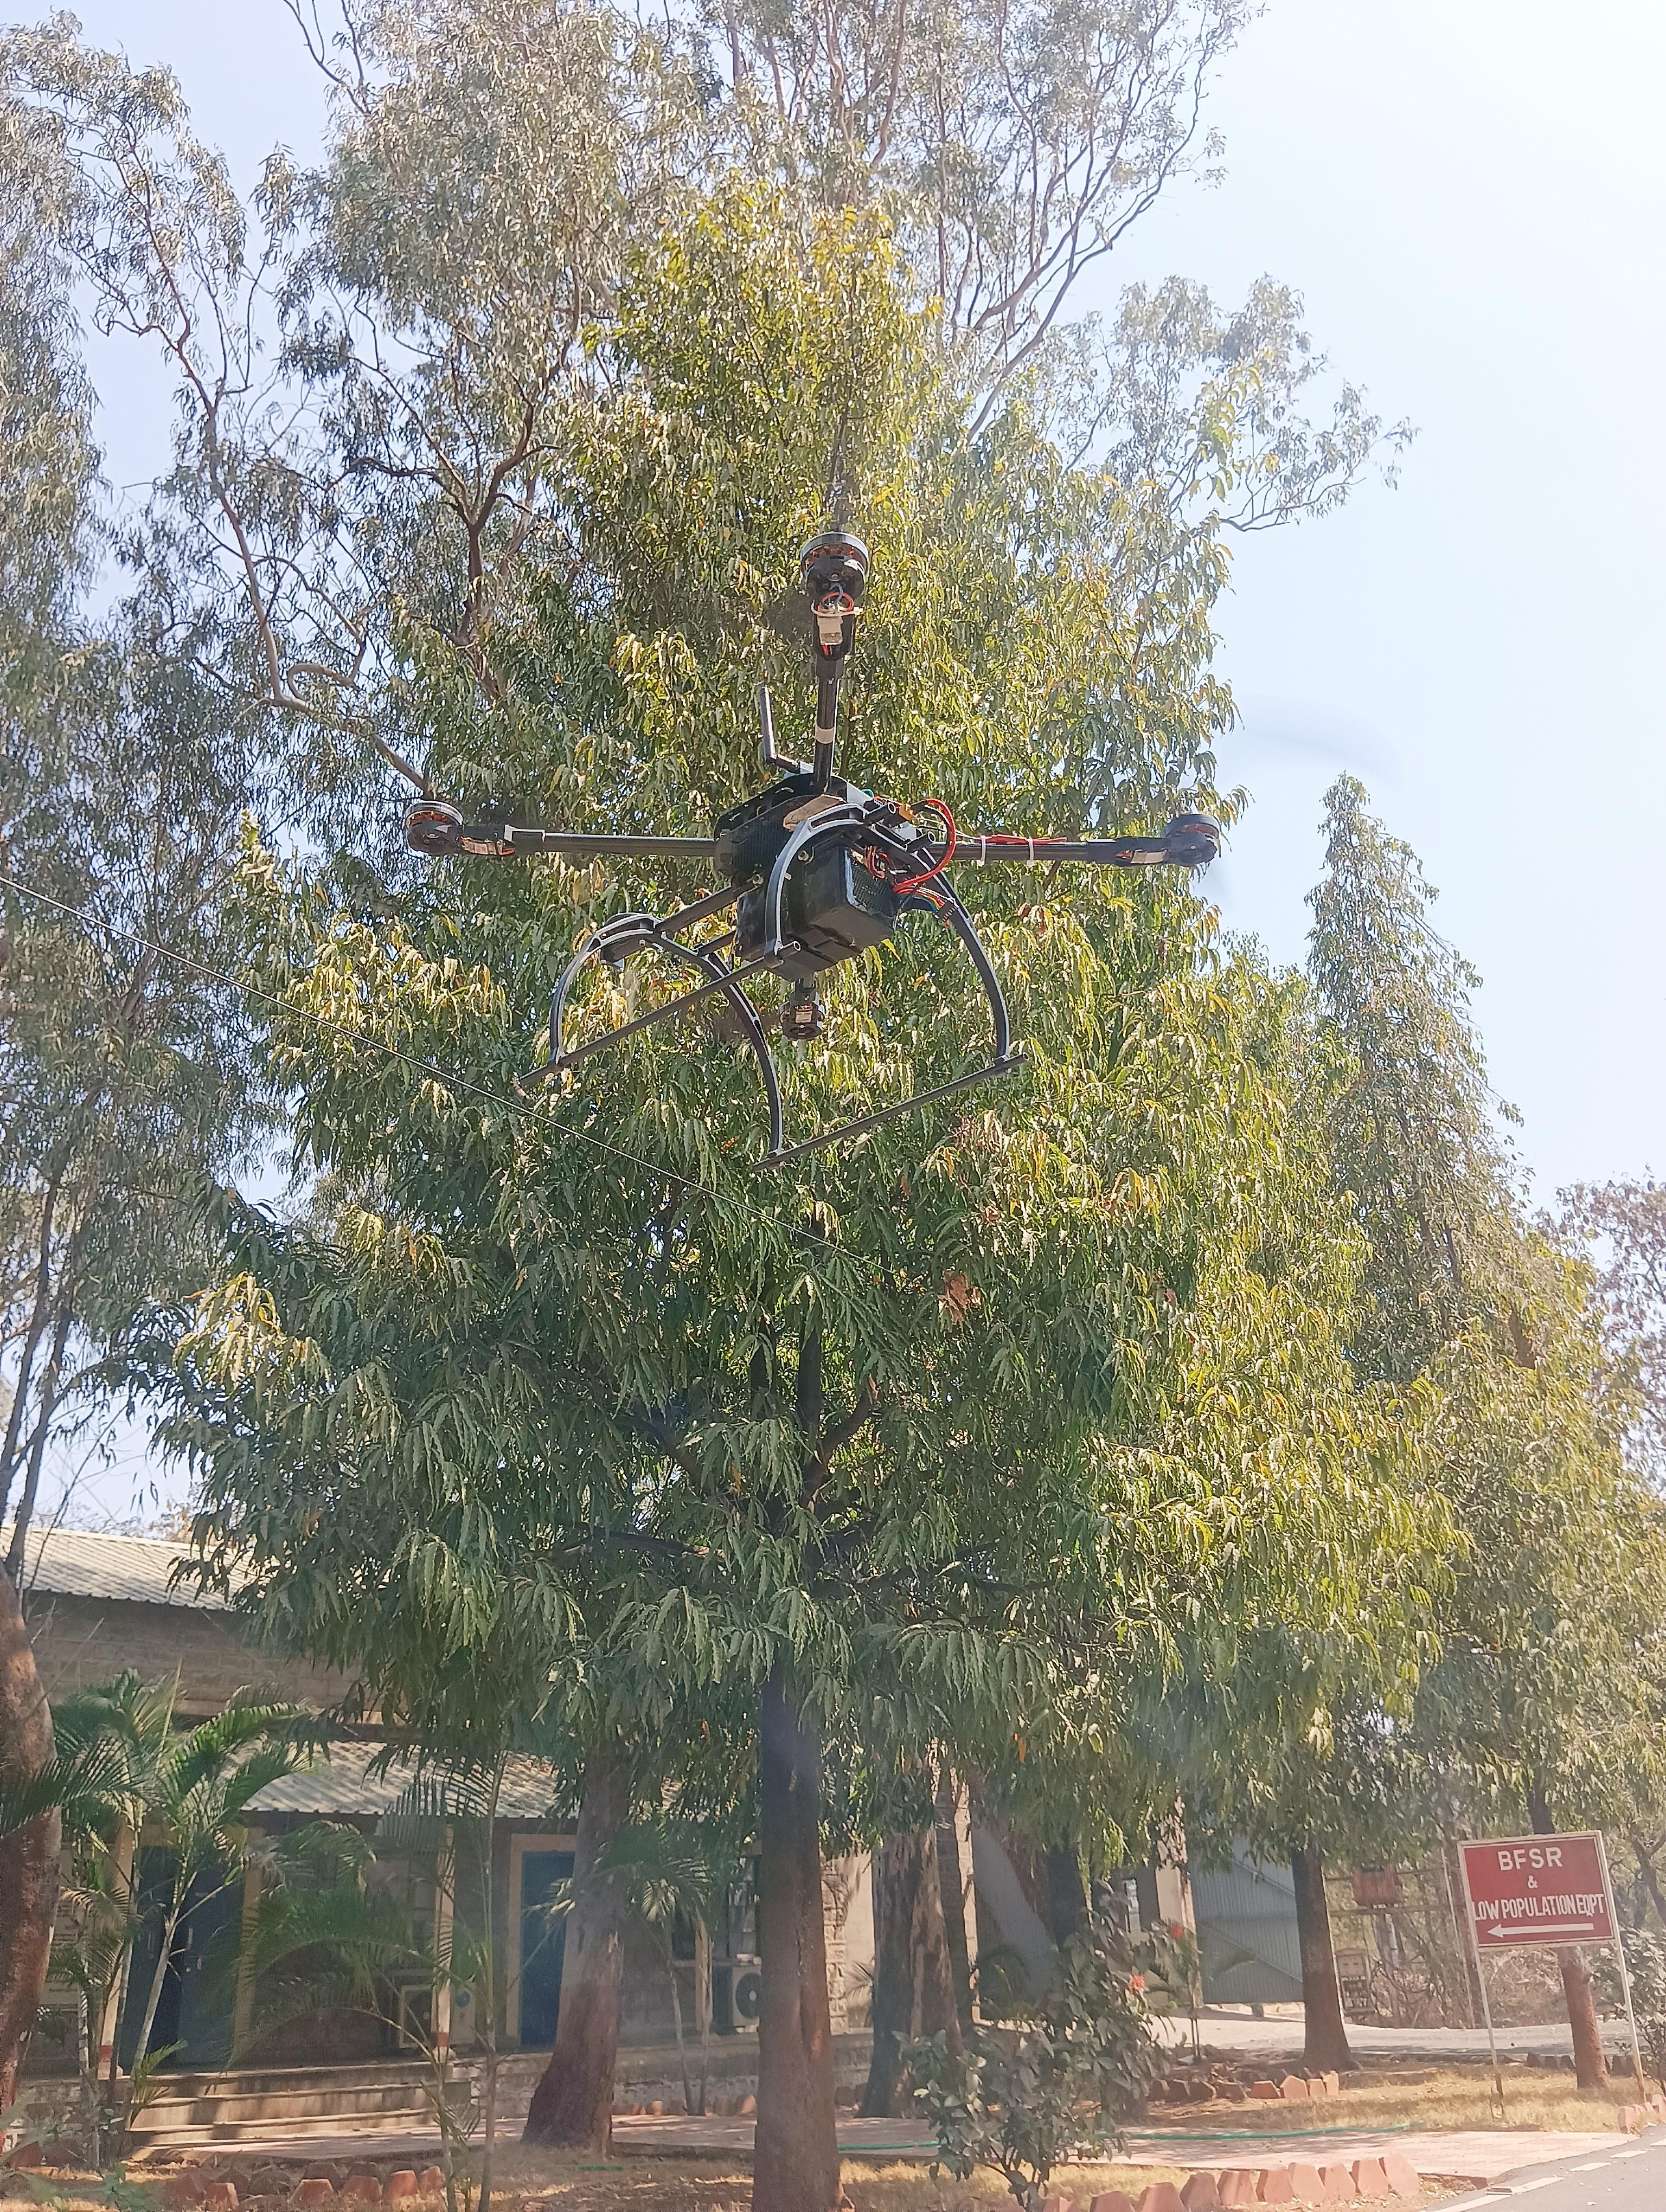drone: (332, 402, 1311, 1158)
